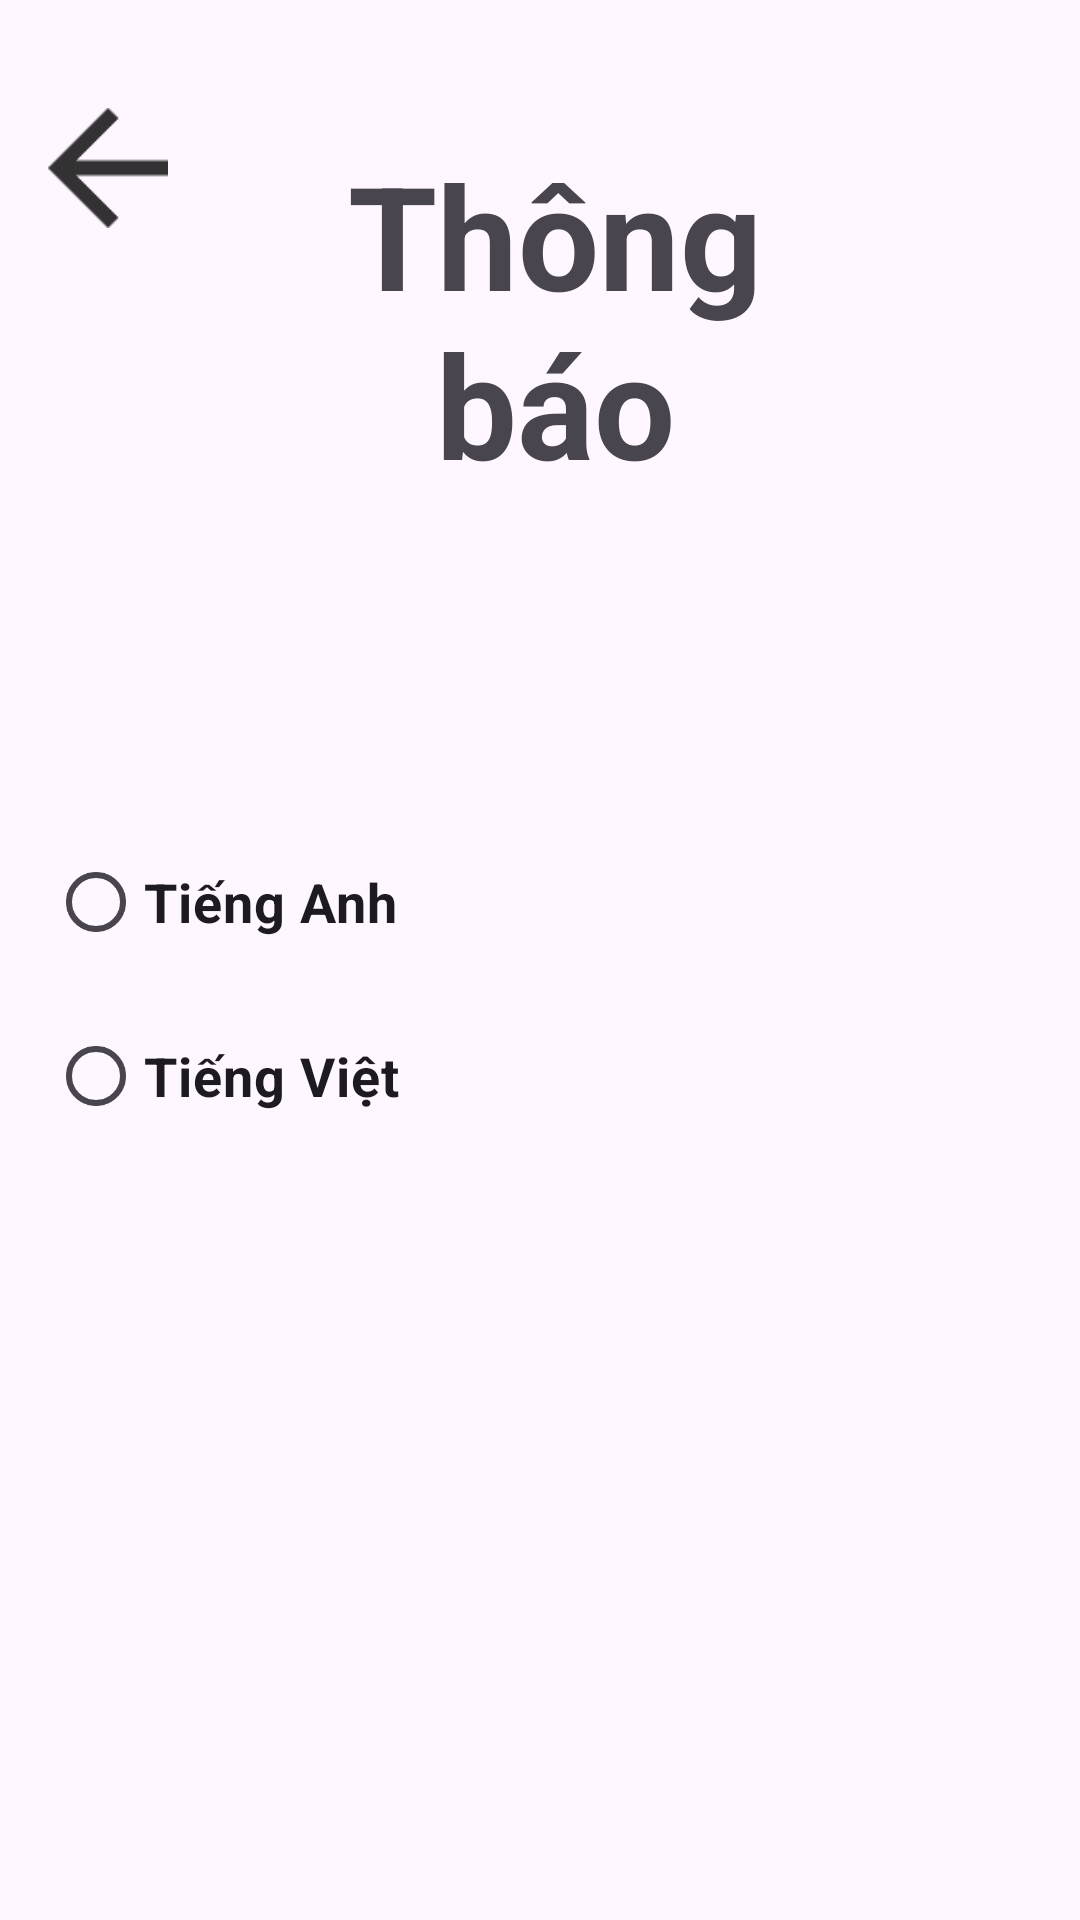

Locate icon controls on the screen. Image size 1080*1920, boxes as [x1,y1,x2,y2].
arrowback: [48,108,168,228]
